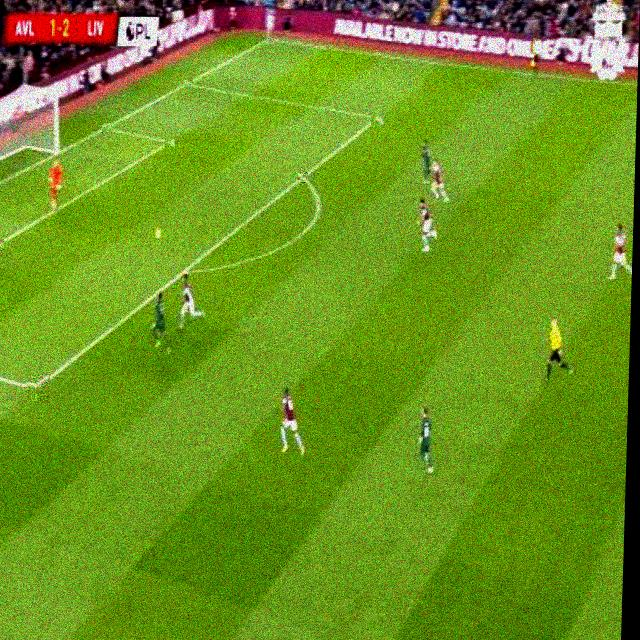bigarea_bottom_inner: (26, 376, 50, 402)
bigarea_top_inner: (371, 111, 384, 127)
bigarea_top_outter: (184, 80, 193, 90)
bottom_arc_area_intersection: (182, 268, 189, 278)
corner: (266, 38, 275, 43)
smallarea_bottom_inner: (0, 238, 4, 252)
smallarea_top_inner: (165, 137, 175, 148)
smallarea_top_outter: (102, 124, 111, 134)
top_arc_area_intersection: (297, 169, 308, 186)
